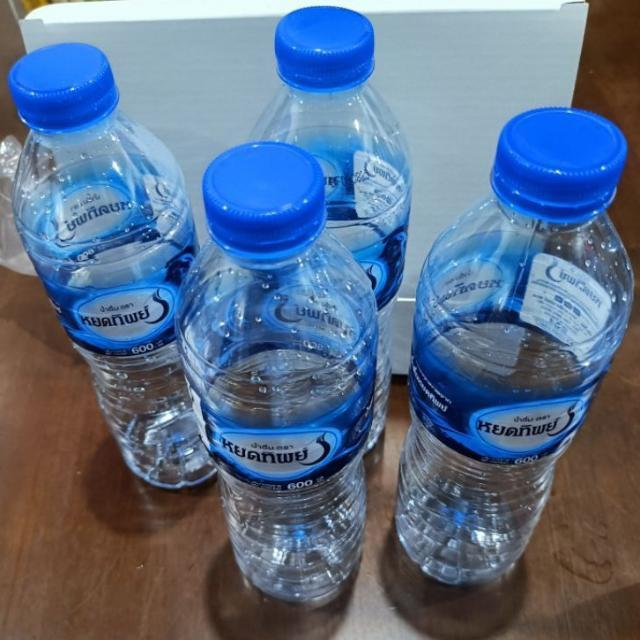PET Bottle: (392, 79, 640, 627), (0, 0, 210, 529), (171, 129, 380, 621), (256, 27, 458, 305)
